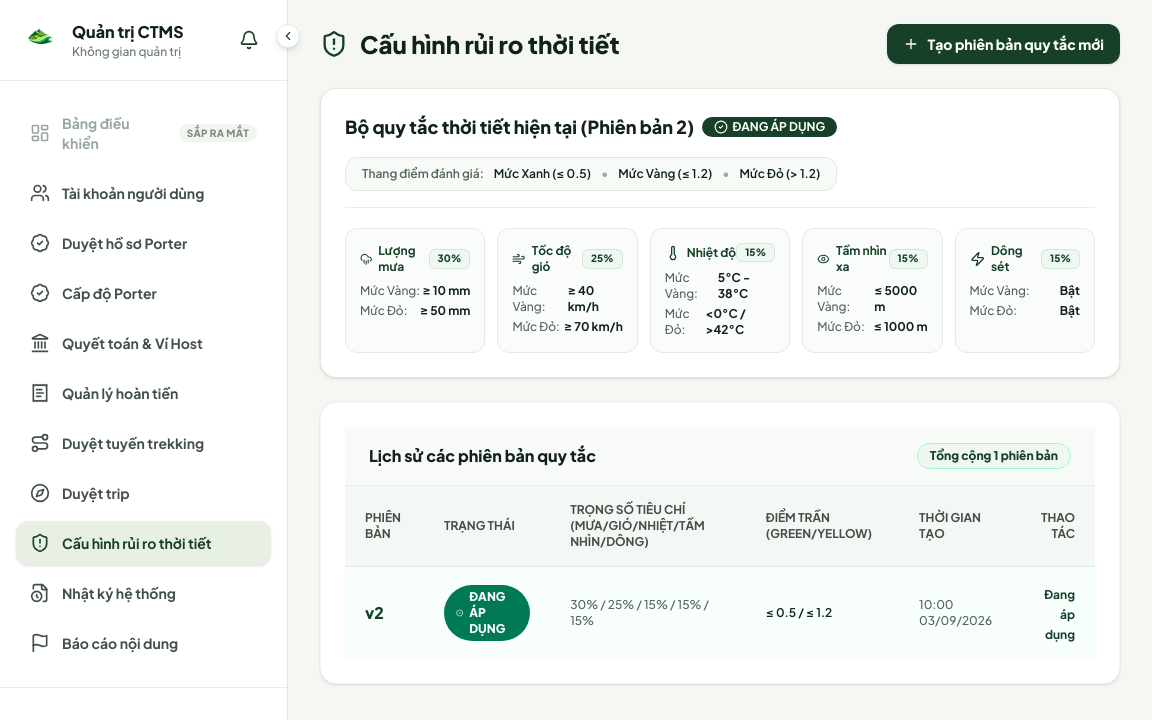
Test: AdminWeatherRulesPage Component › opens create rule dialog on button click
Click the button with test id "btn-open-create-modal" at (1004,44), box [887,24,1120,64]
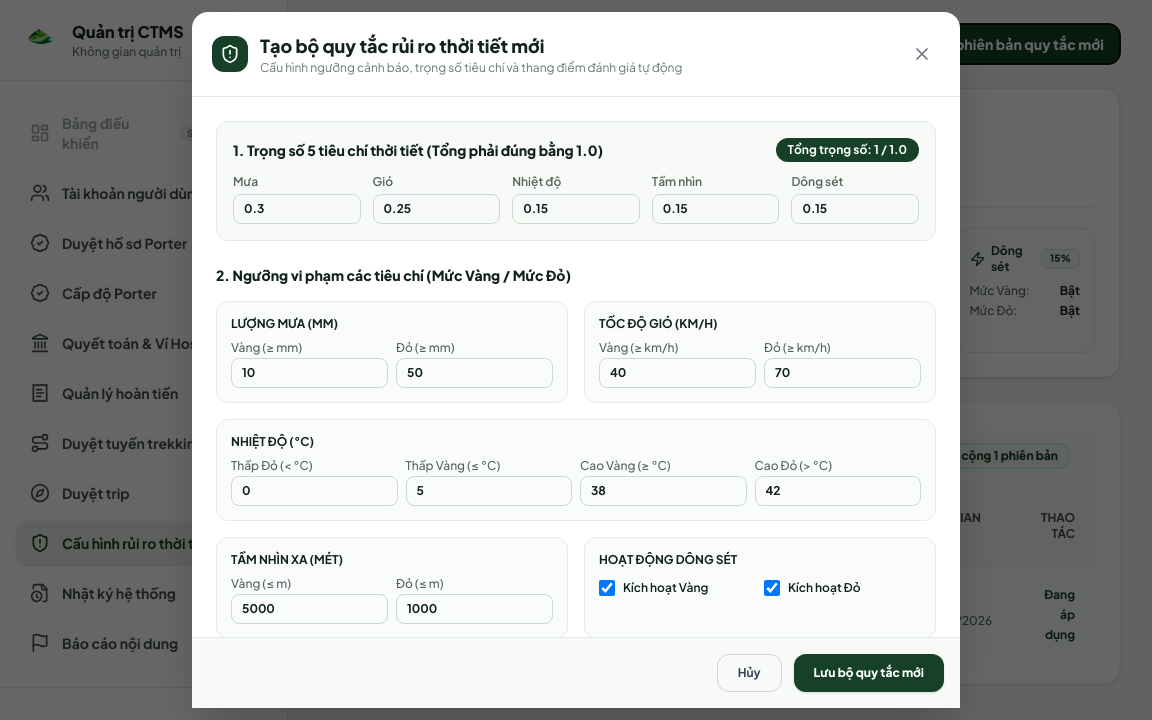
Expected: the heading "Tạo bộ quy tắc rủi ro thời tiết mới" is shown, [260,34,544,57]
Expected: the text "Tổng trọng số: 1 / 1.0" is shown, [776,138,919,162]
